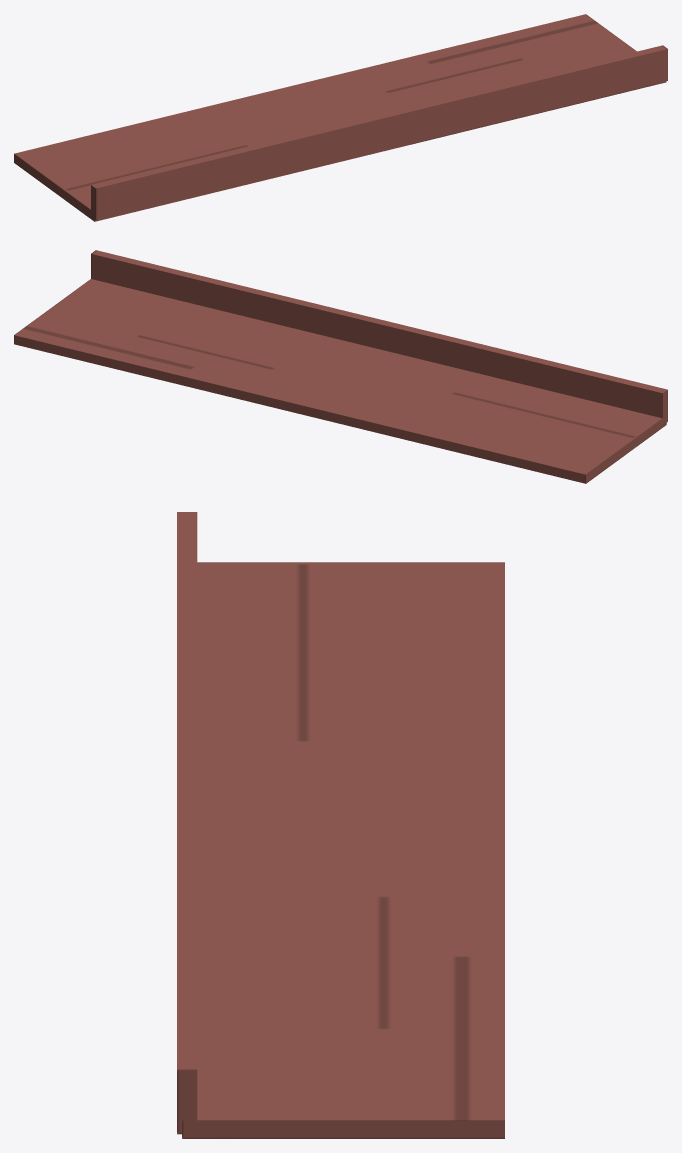
Rendered from WorkBench.fbx.
3 views of the same model, one above another, from view 1: azimuth 30°, elevation 25°; view 2: azimuth 150°, elevation 25°; view 3: azimuth 270°, elevation 25° (orthographic). The views are drawn at different scales.
Parts seen in each view (by area): view 1: cube, cube_1; view 2: cube, cube_1; view 3: cube, cube_1.
Part boxes in pixels (x1,y1,x2,y2): cube: (14, 14, 666, 221); cube_1: (91, 45, 667, 220); cube: (14, 279, 666, 483); cube_1: (91, 250, 667, 424); cube: (182, 562, 504, 1138); cube_1: (177, 512, 197, 1134).
Bounding box in the file's own units: 1638 × 93.75 × 406.
1 material, 1 textured.
